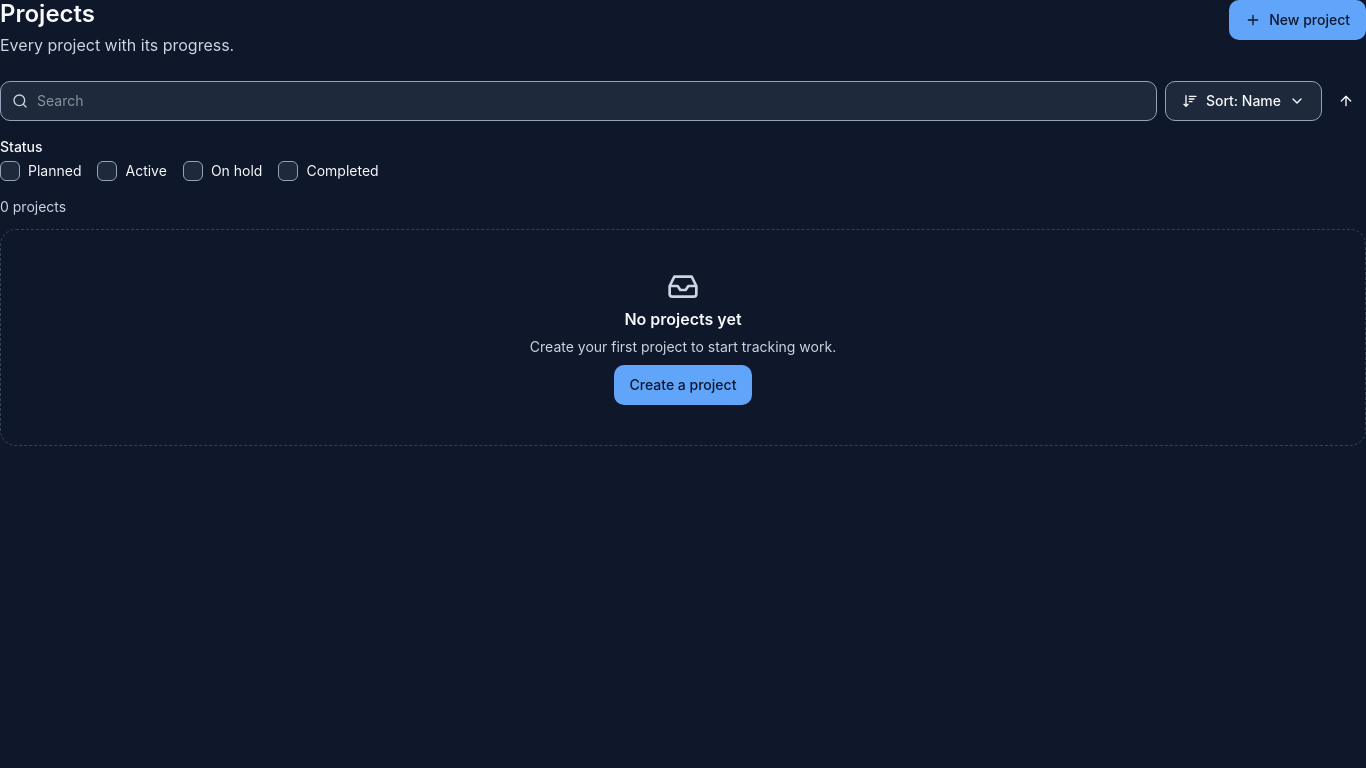
Test: TC-054 projects pages (FR-11, FR-14) › TC-071 the empty scenario offers Create a project
Expected: the heading "No projects yet" is shown, [624,310,742,329]
What coordinates should you click on to do the following:
click the button "Create a project"
I would click on:
 (683, 385)
Its box is [614,365,752,405].
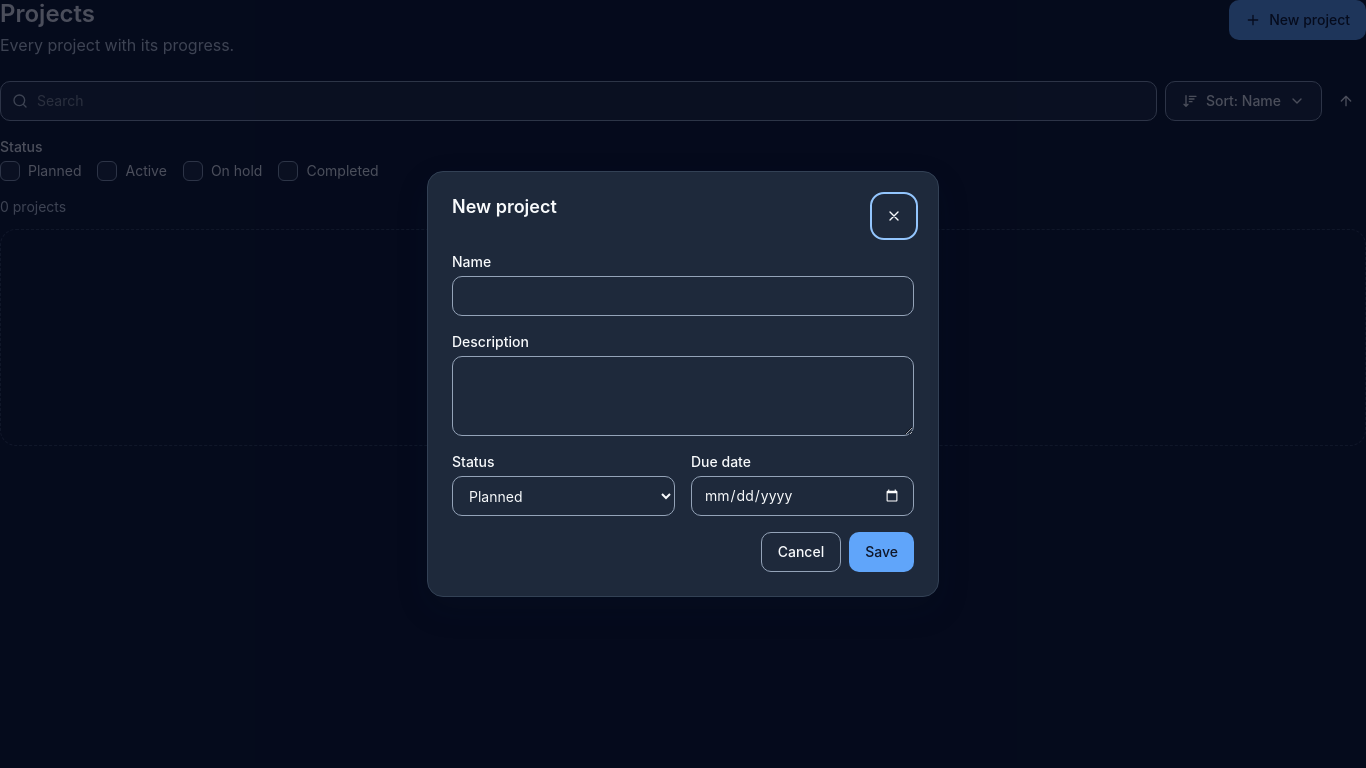
Expected: the dialog "New project" is shown, [427,171,939,597]
